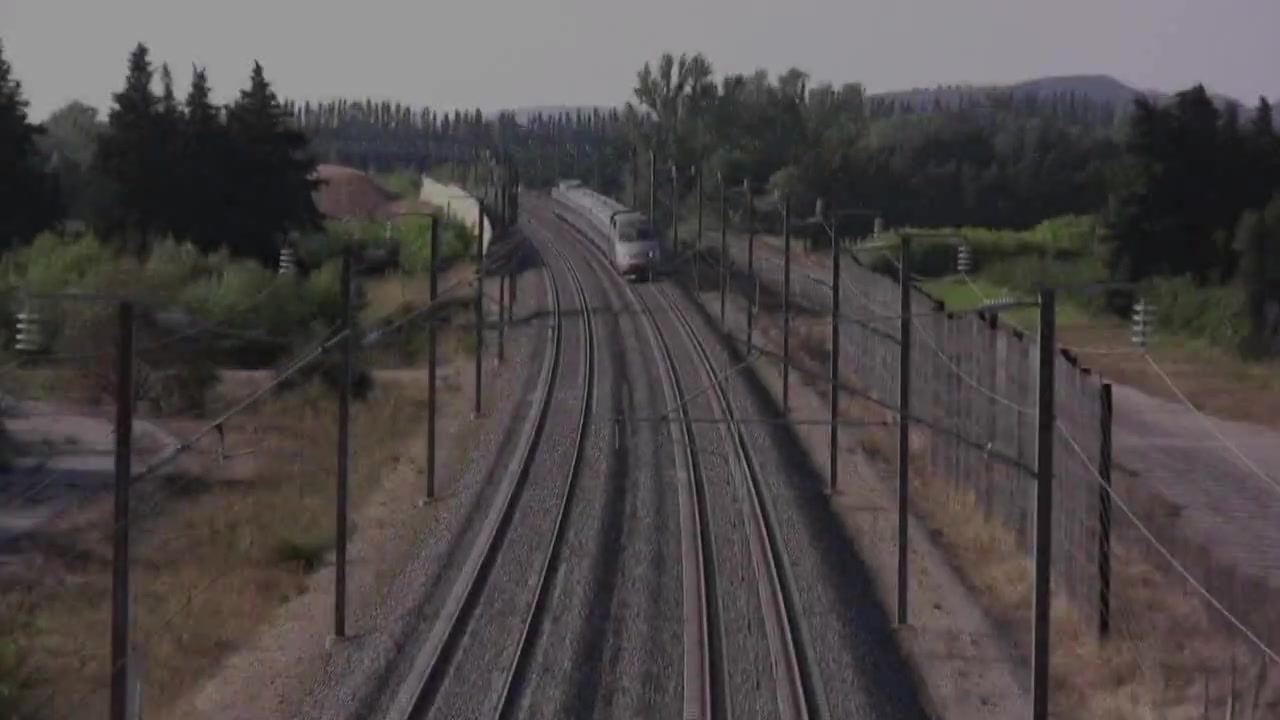train: (548, 181, 666, 283)
